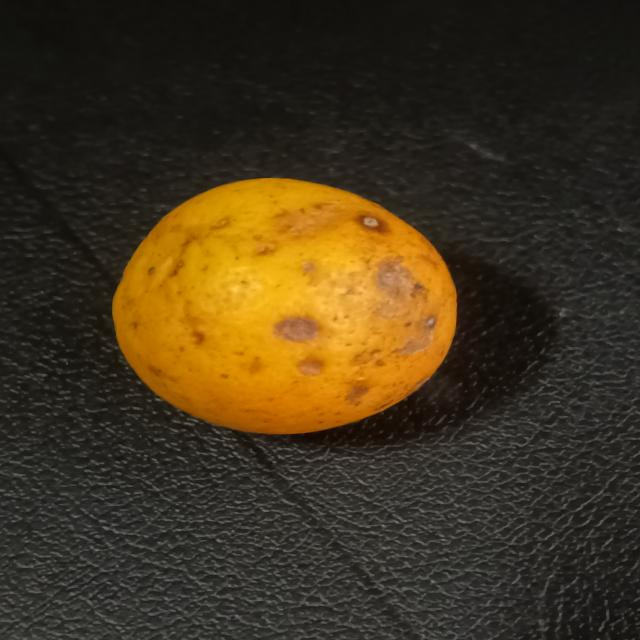black spot: (104, 170, 464, 436)
